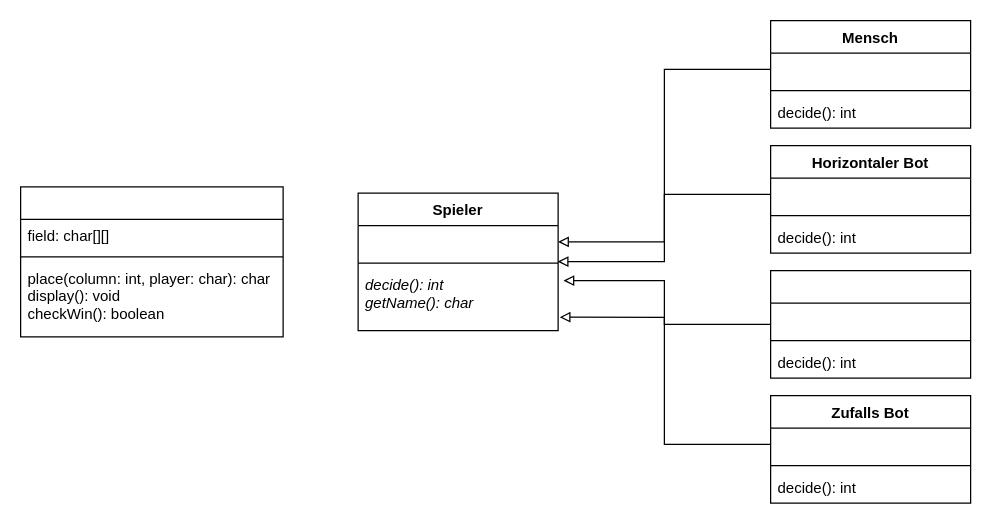
This 991x524 diagram has some shape labels left out. Each missing label, with the box of its shape:
Board: (19, 186, 283, 337)
Vertikaler Bot: (769, 269, 971, 378)
